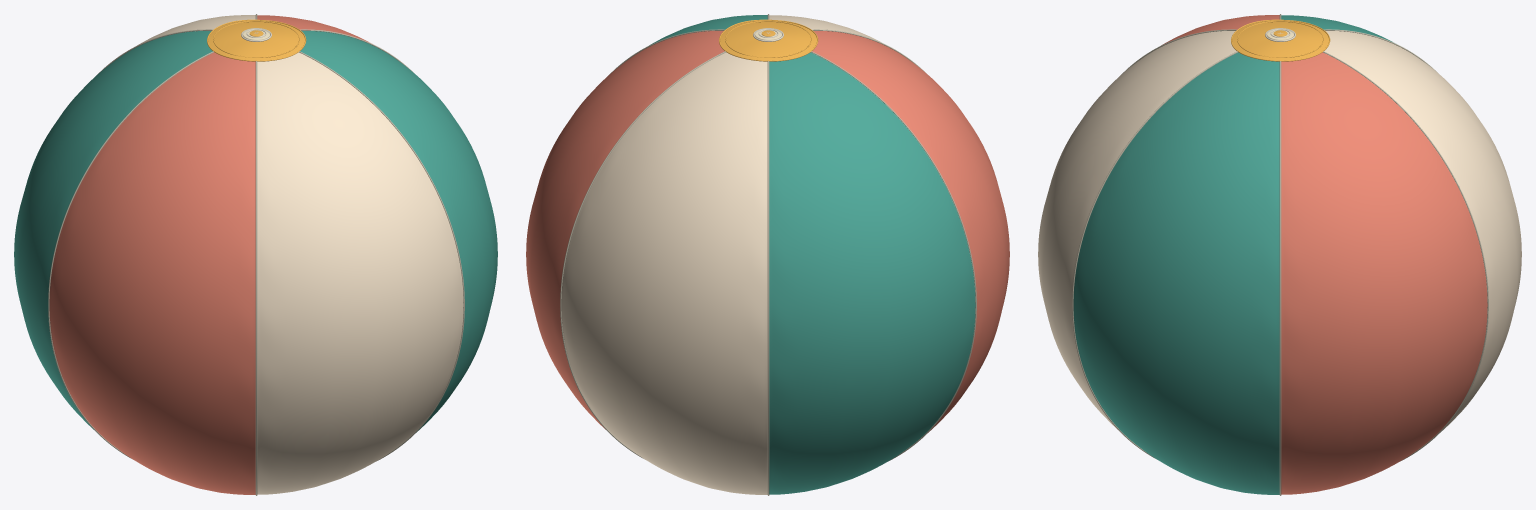
File: beach-ball-v6.glb
3 renders of one model, left to right at view 1: azimuth 30°, elevation 25°; view 2: azimuth 150°, elevation 25°; view 3: azimuth 270°, elevation 25°, orthographic.
Visible parts, largest first — view 1: Ball | six inflated panels, Ball | six slim welds, Ball | upper yellow pole patch; view 2: Ball | six inflated panels, Ball | six slim welds, Ball | upper yellow pole patch; view 3: Ball | six inflated panels, Ball | six slim welds, Ball | upper yellow pole patch.
Boxes of the visible parts, x1,y1,x2,y2 form: Ball | six inflated panels: (14,15,497,494); Ball | six slim welds: (48,14,464,495); Ball | upper yellow pole patch: (208,20,304,60); Ball | six inflated panels: (526,15,1009,494); Ball | six slim welds: (560,14,976,495); Ball | upper yellow pole patch: (720,20,816,60); Ball | six inflated panels: (1038,15,1521,494); Ball | six slim welds: (1072,14,1488,495); Ball | upper yellow pole patch: (1232,20,1328,60).
Bounding box in the file's own units: 0.3296 × 0.3331 × 0.3325.
